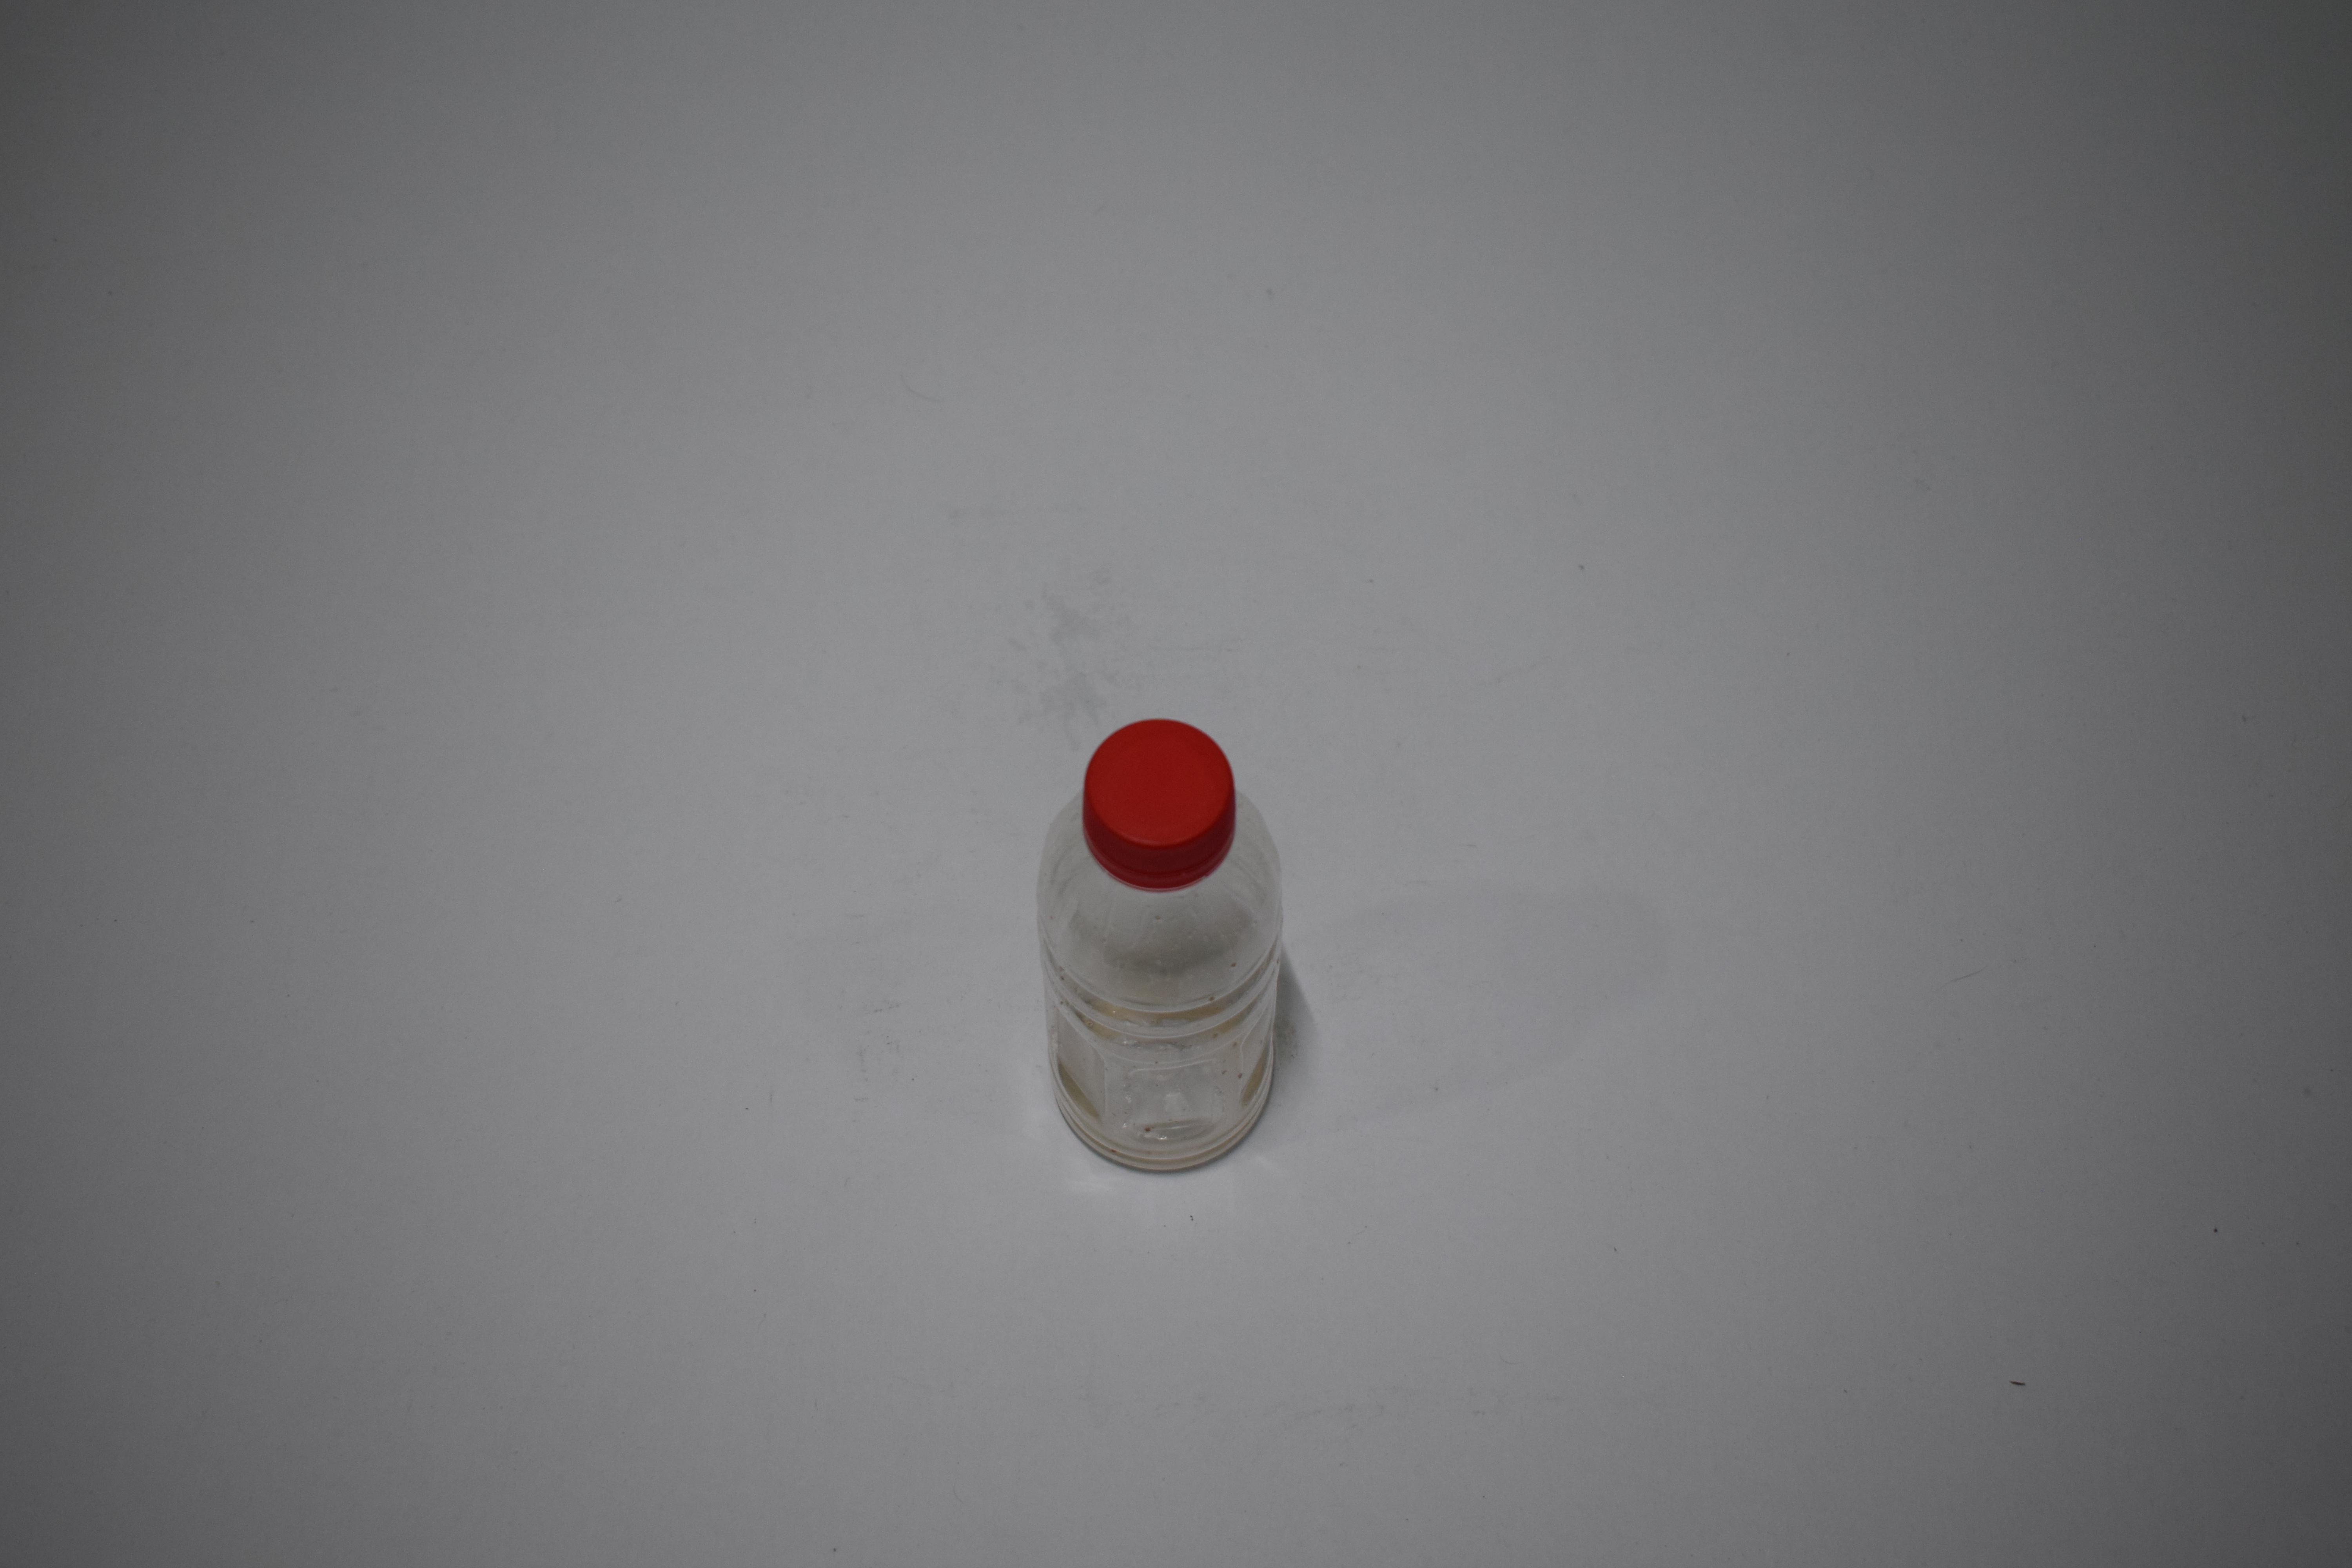bottle: (1031, 705, 1290, 1179)
